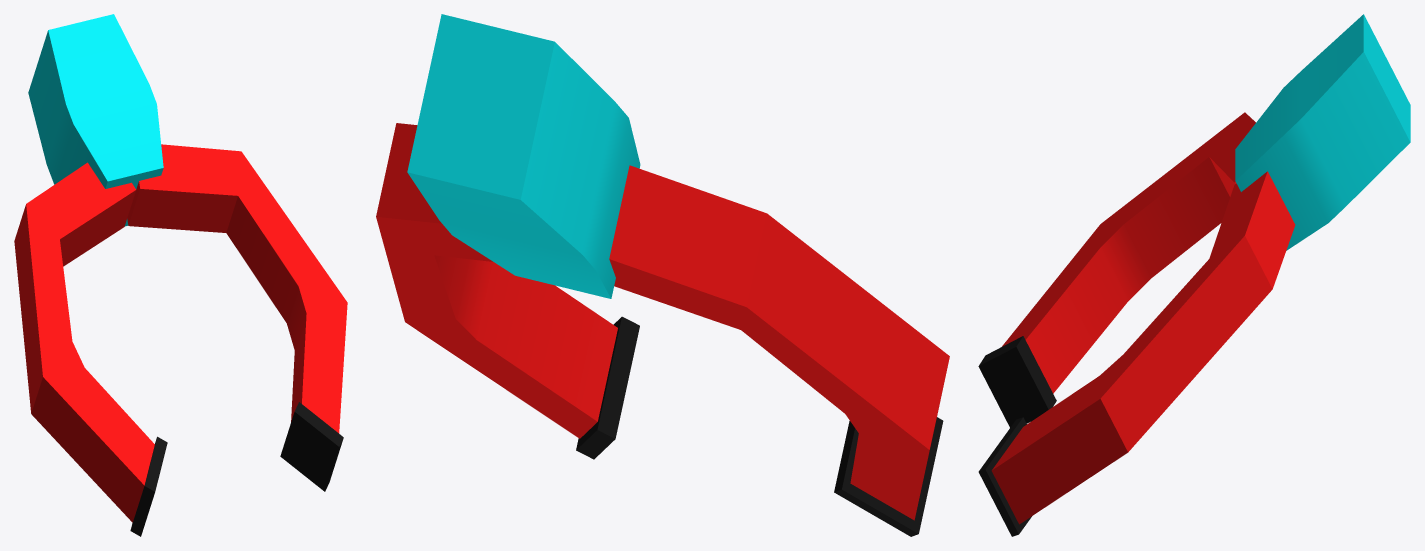
The model's file is Grabber_narrow.FBX.
3 renders of one model, left to right at view 1: azimuth 30°, elevation 25°; view 2: azimuth 150°, elevation 25°; view 3: azimuth 270°, elevation 25°, orthographic. The views are drawn at different scales.
Parts seen in each view (by area): view 1: Object029; view 2: Object029; view 3: Object029.
Boxes of the visible parts, x1,y1,x2,y2 form: Object029: (14, 14, 347, 536); Object029: (376, 14, 949, 536); Object029: (978, 14, 1410, 536).
Bounding box in the file's own units: 54.92 × 66.04 × 57.44.
